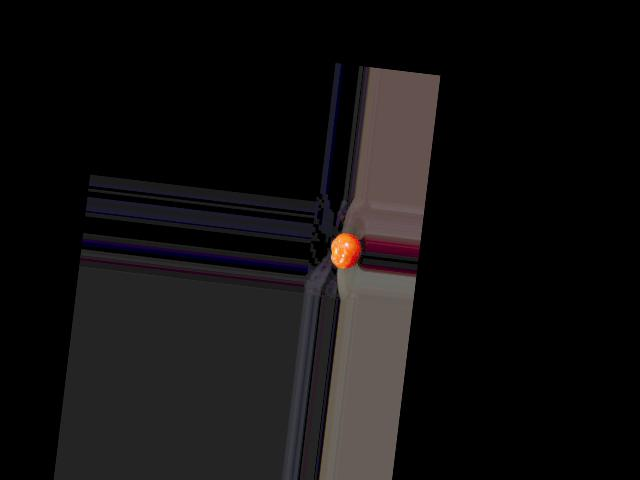tomato: (328, 230, 363, 271)
